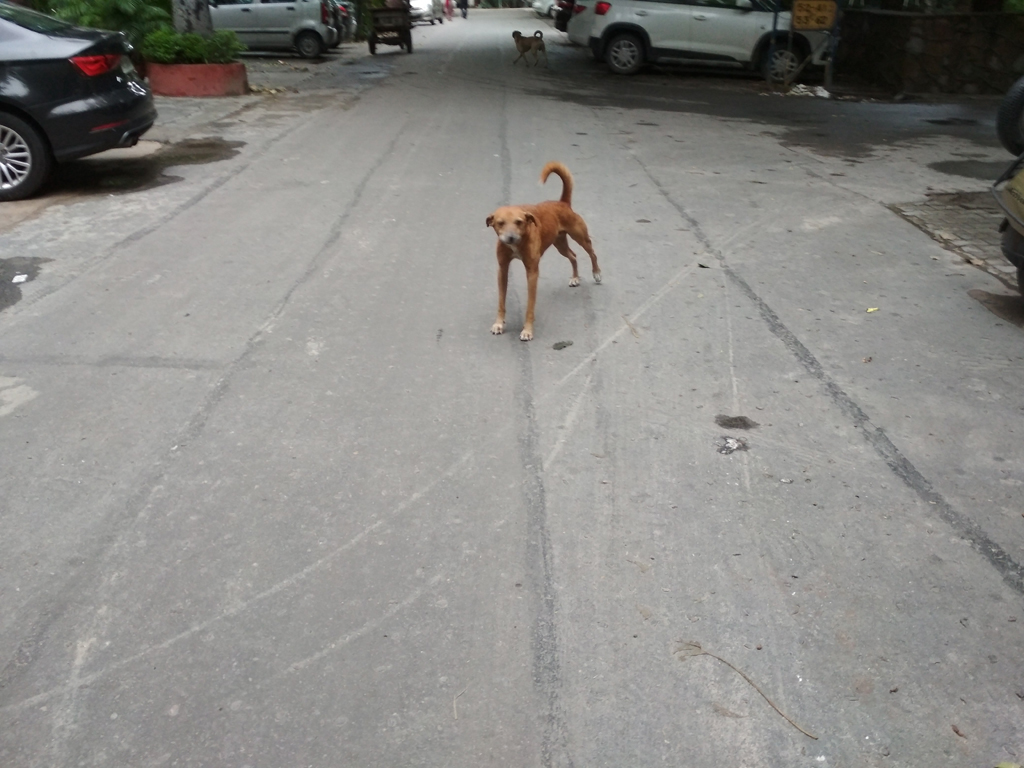dog: (485, 161, 604, 341)
